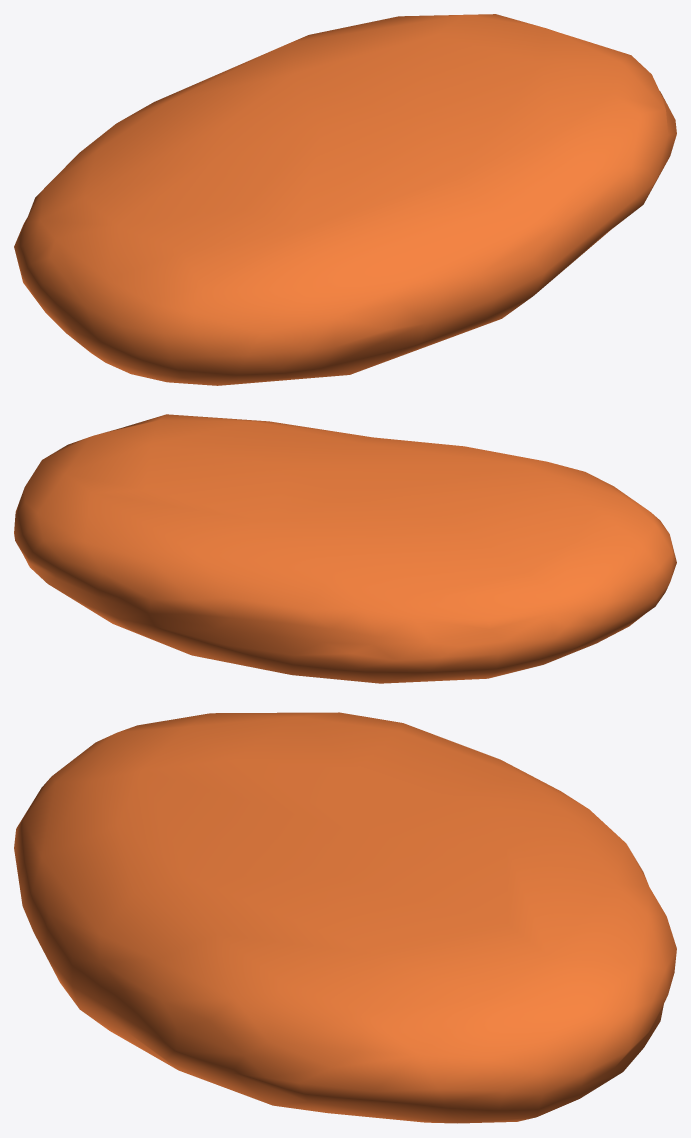
Rendered from Rock7.fbx.
3 views of the same model, one above another, from view 1: azimuth 30°, elevation 25°; view 2: azimuth 150°, elevation 25°; view 3: azimuth 270°, elevation 25° (orthographic). The views are drawn at different scales.
Parts seen in each view (by area): view 1: pasted__Cube.089; view 2: pasted__Cube.089; view 3: pasted__Cube.089.
Part boxes in pixels (<box>): pasted__Cube.089: <box>14,14,676,385</box>; pasted__Cube.089: <box>14,414,676,683</box>; pasted__Cube.089: <box>14,712,676,1123</box>.
Bounding box in the file's own units: 192 × 47.71 × 142.
